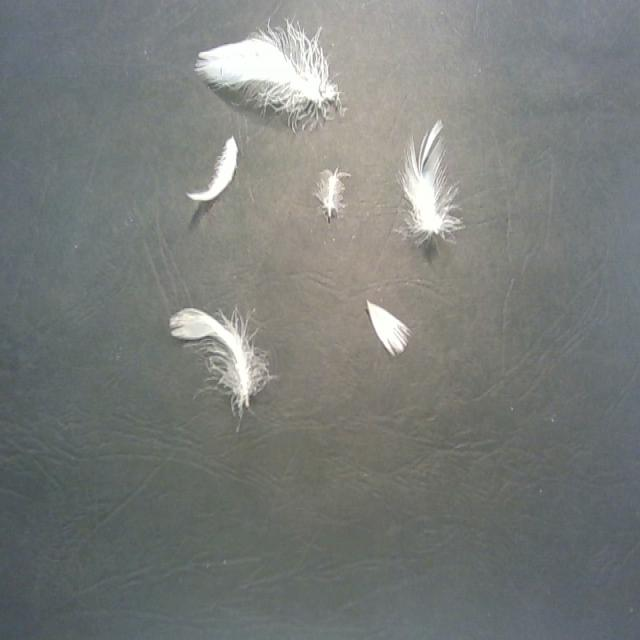feather: (185, 14, 345, 122), (164, 297, 276, 420), (390, 116, 471, 245), (185, 130, 238, 202), (365, 297, 413, 353), (313, 164, 353, 216)
